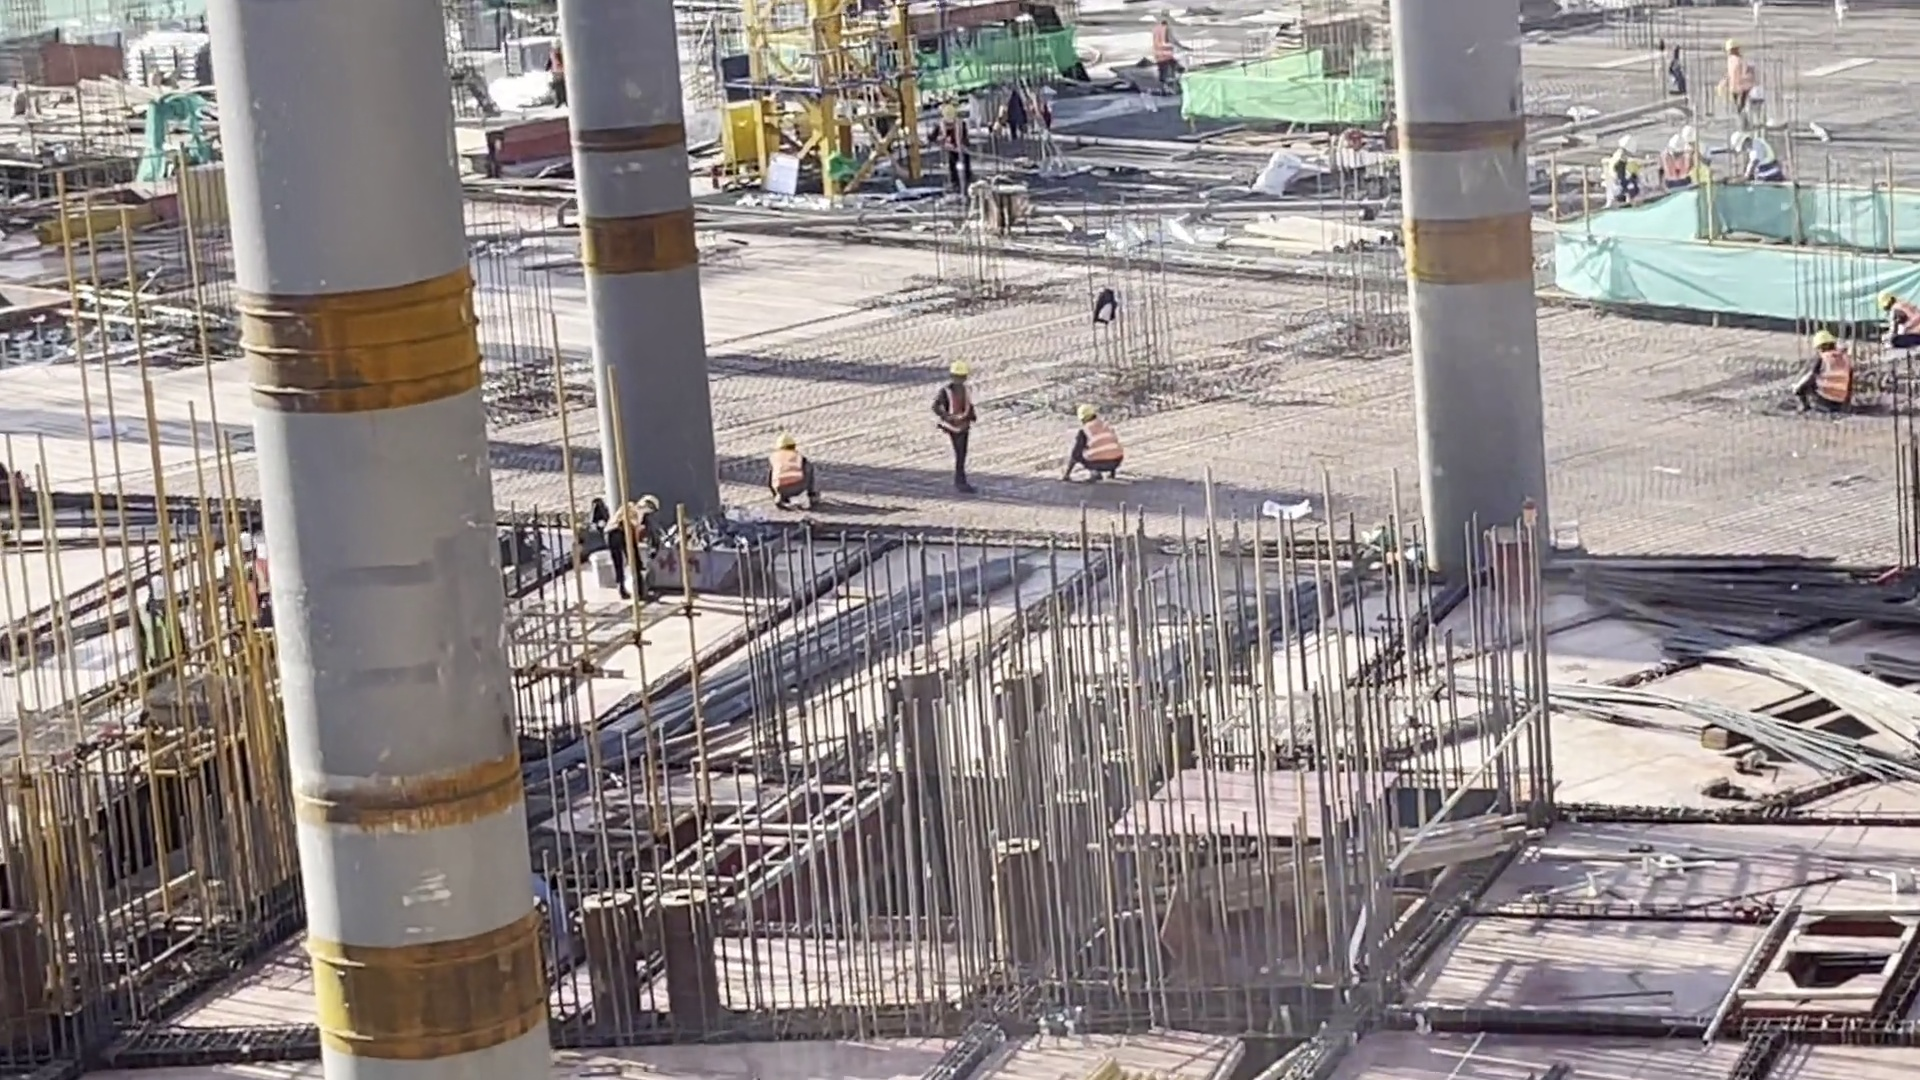helmet: (1672, 113, 1704, 142), (946, 353, 976, 381), (1064, 402, 1102, 423), (1813, 322, 1839, 350), (1723, 119, 1750, 146), (774, 430, 801, 450), (637, 492, 663, 505), (1718, 41, 1739, 57), (1612, 129, 1634, 144), (1876, 283, 1893, 302)
hopper: (632, 511, 788, 606)
person: (588, 485, 671, 605), (918, 356, 985, 495), (749, 417, 823, 520), (1788, 323, 1859, 422), (1706, 31, 1780, 124), (1060, 390, 1130, 487), (924, 98, 984, 203), (1729, 117, 1791, 202), (1595, 123, 1648, 216), (1655, 115, 1710, 195), (1144, 5, 1191, 98), (1875, 286, 1920, 365)
vest: (600, 504, 659, 548), (1070, 418, 1122, 464), (938, 386, 979, 442), (1811, 353, 1859, 400), (767, 446, 811, 487), (1721, 52, 1762, 93), (1149, 27, 1179, 63), (1660, 148, 1692, 181)
